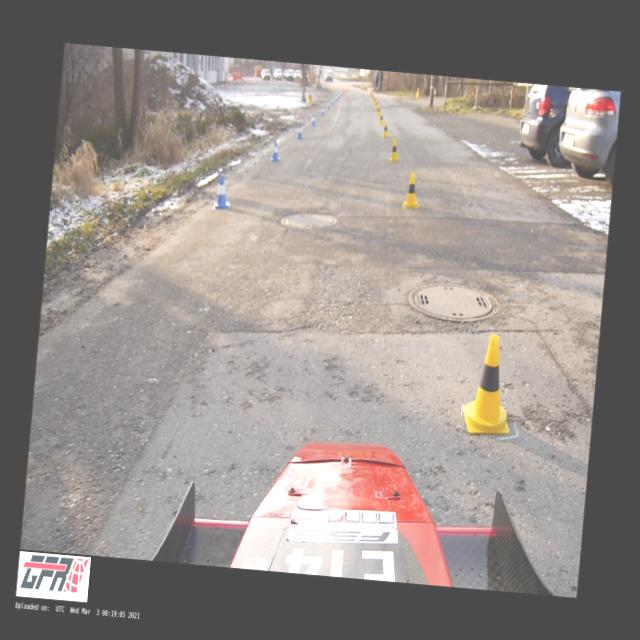blue_cone: (212, 172, 232, 210), (270, 139, 282, 163), (296, 122, 304, 139), (310, 113, 317, 125), (318, 106, 324, 116), (329, 96, 334, 105), (325, 101, 330, 108), (334, 94, 337, 102)
yellow_cone: (460, 331, 518, 436), (401, 171, 421, 208), (388, 138, 399, 162), (382, 123, 389, 137), (378, 112, 384, 125), (376, 105, 380, 115), (374, 100, 378, 108)
